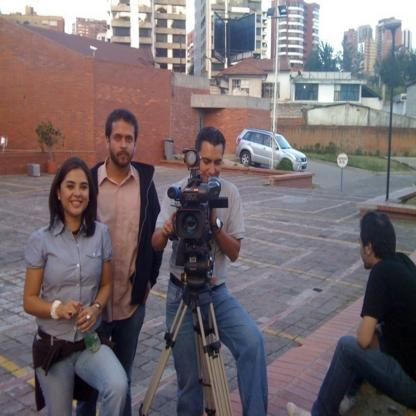Car: (233, 122, 309, 172)
